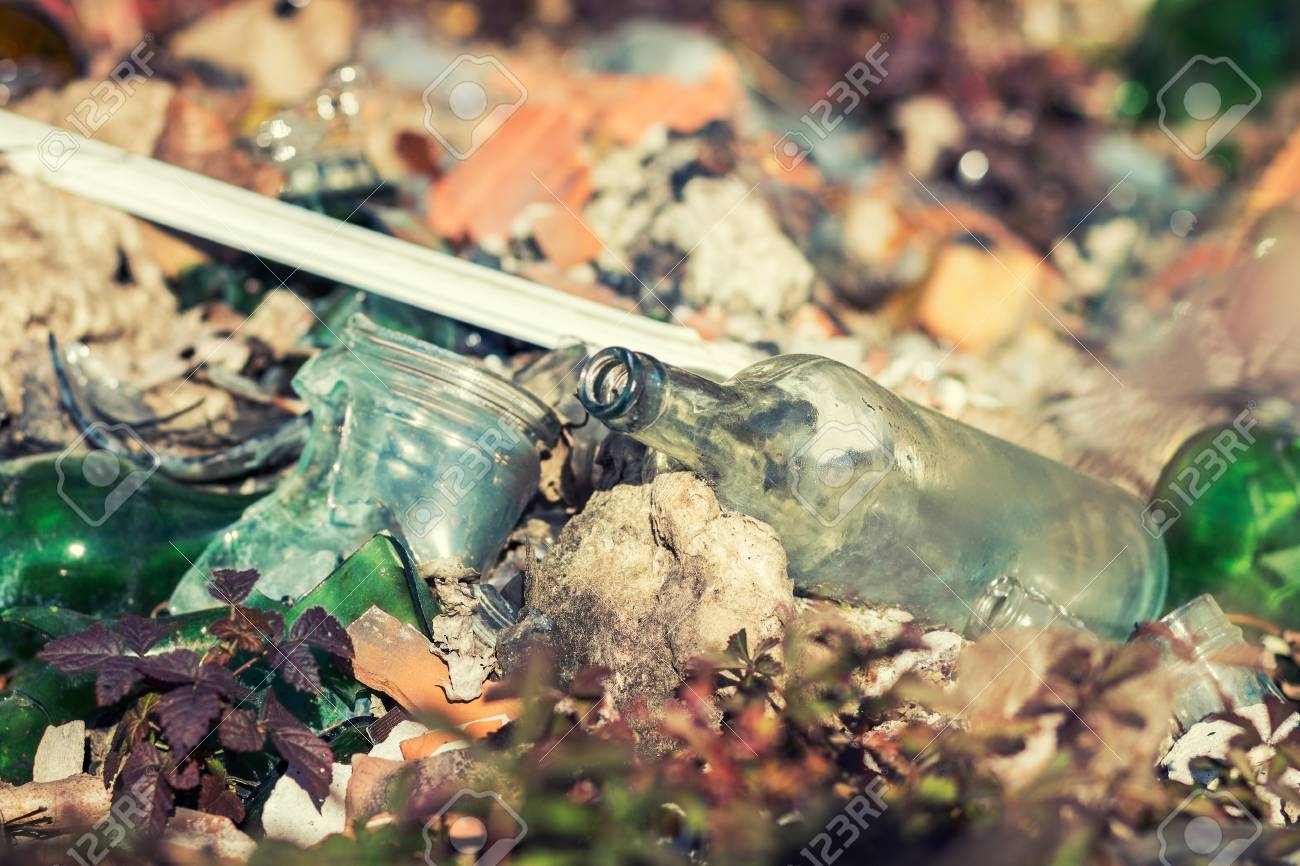glass: (559, 315, 1180, 656), (291, 297, 549, 580), (1, 446, 288, 629)
